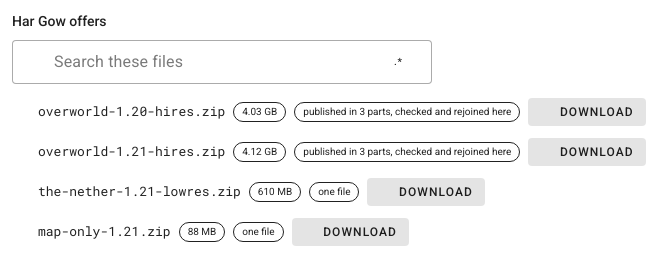
Test: the search bar this list carries › treats a pattern-shaped query literally until regex is turned on
The width and height of the screenshot is (663, 263).
Type ".*" into the search field labelled "Search these files" at coordinates (190, 60), box top-left (48, 40), bottom-right (332, 80)
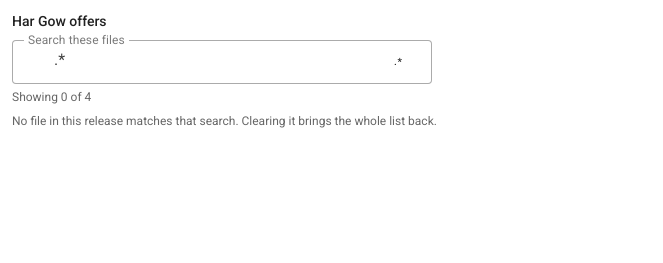
Expected: the text "No file in this release matches that search" is shown, top-left (12, 114), bottom-right (437, 128)
